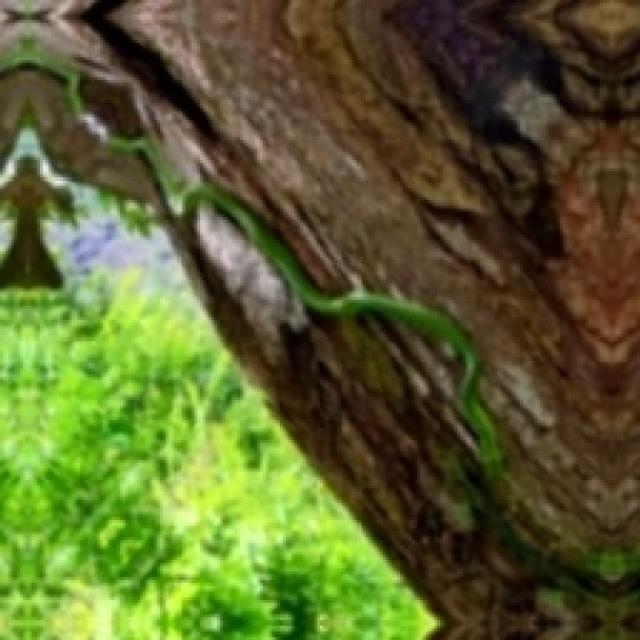red-tailed green ratsnake: (0, 38, 499, 484)
